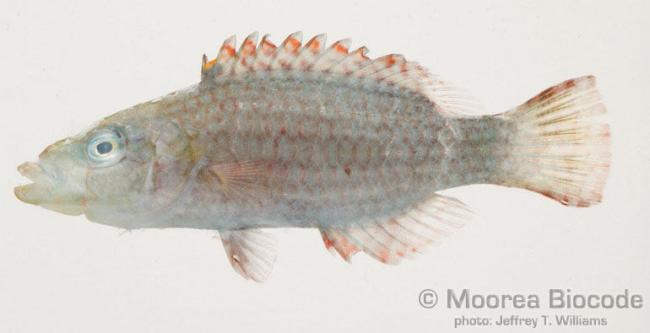fish: (14, 31, 612, 283)
